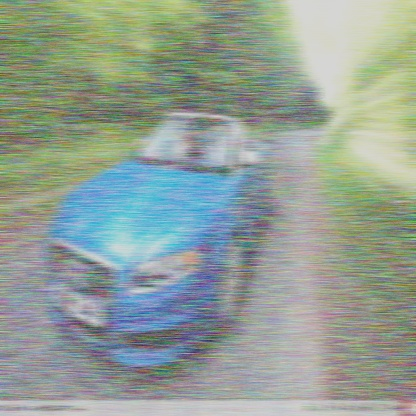Vehicle: (43, 109, 274, 367)
